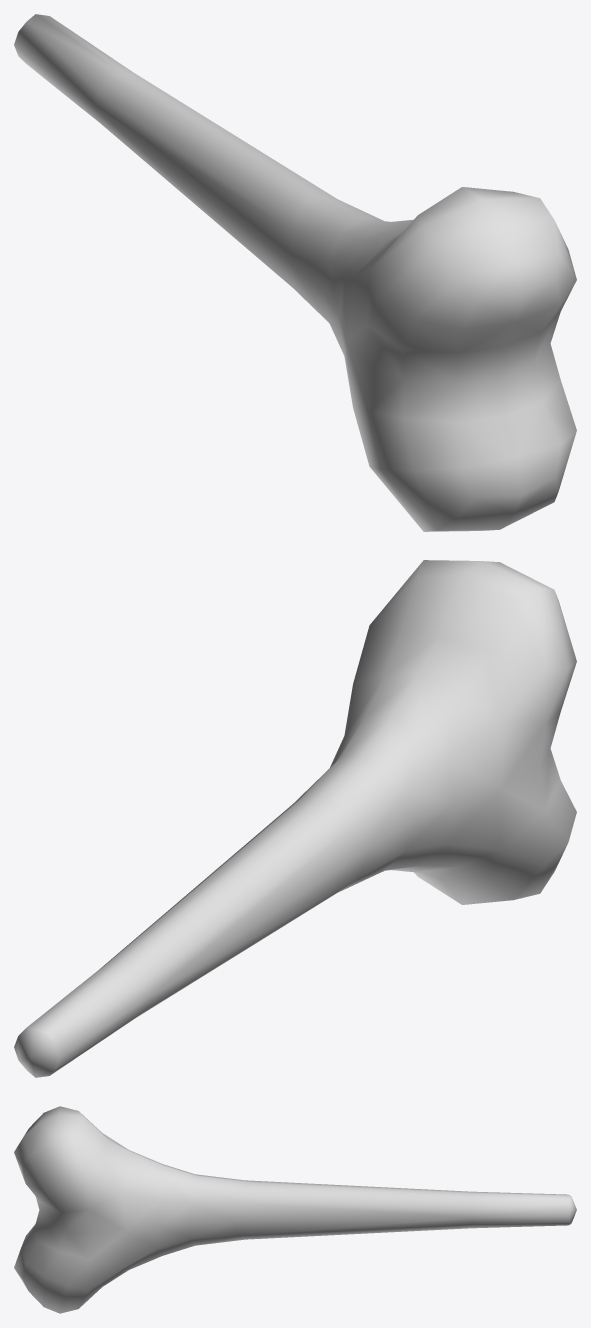
File: hueso.fbx
3 views of the same model, one above another, from view 1: azimuth 30°, elevation 25°; view 2: azimuth 150°, elevation 25°; view 3: azimuth 270°, elevation 25° (orthographic). The views are drawn at different scales.
Visible parts, largest first — view 1: Cubone.003; view 2: Cubone.003; view 3: Cubone.003.
Part boxes in pixels (x1=…): Cubone.003: x1=14, y1=14, x2=576, y2=531; Cubone.003: x1=14, y1=560, x2=576, y2=1077; Cubone.003: x1=14, y1=1106, x2=576, y2=1313.
Size of the model in its own units: 11936 by 20122 by 54023.
1 material, 1 textured.
